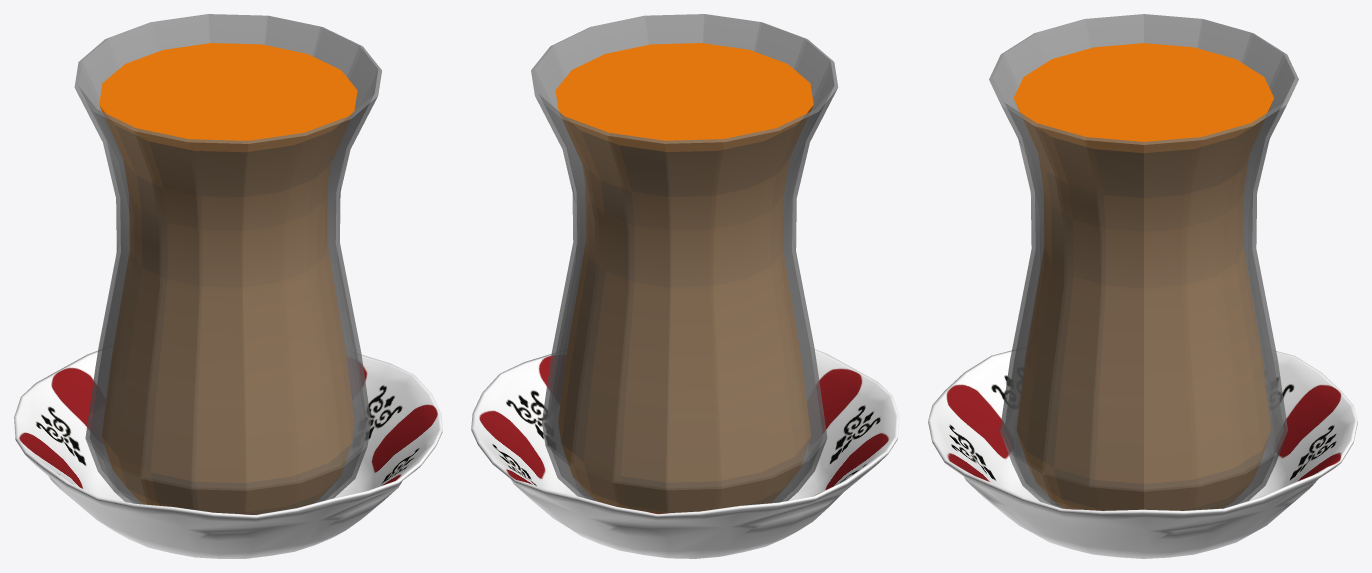
File: Oralets(orange).fbx
The picture shows the model from 3 angles, left to right: view 1: azimuth 30°, elevation 25°; view 2: azimuth 150°, elevation 25°; view 3: azimuth 270°, elevation 25°; orthographic projection.
Parts seen in each view (by area): view 1: TeaGlass, Orange, TeaGlassCoater; view 2: TeaGlass, Orange, TeaGlassCoater; view 3: TeaGlass, Orange, TeaGlassCoater.
Boxes of the visible parts, left/top/right/bottom form: TeaGlass: left=74, top=14, right=381, bottom=514; Orange: left=99, top=43, right=357, bottom=514; TeaGlassCoater: left=14, top=349, right=442, bottom=558; TeaGlass: left=531, top=14, right=838, bottom=513; Orange: left=555, top=43, right=813, bottom=513; TeaGlassCoater: left=471, top=348, right=899, bottom=558; TeaGlass: left=989, top=14, right=1298, bottom=510; Orange: left=1013, top=43, right=1273, bottom=510; TeaGlassCoater: left=928, top=350, right=1357, bottom=558.
Size of the model in its own units: 51.36 by 56.79 by 51.36.
3 materials, 1 textured.
